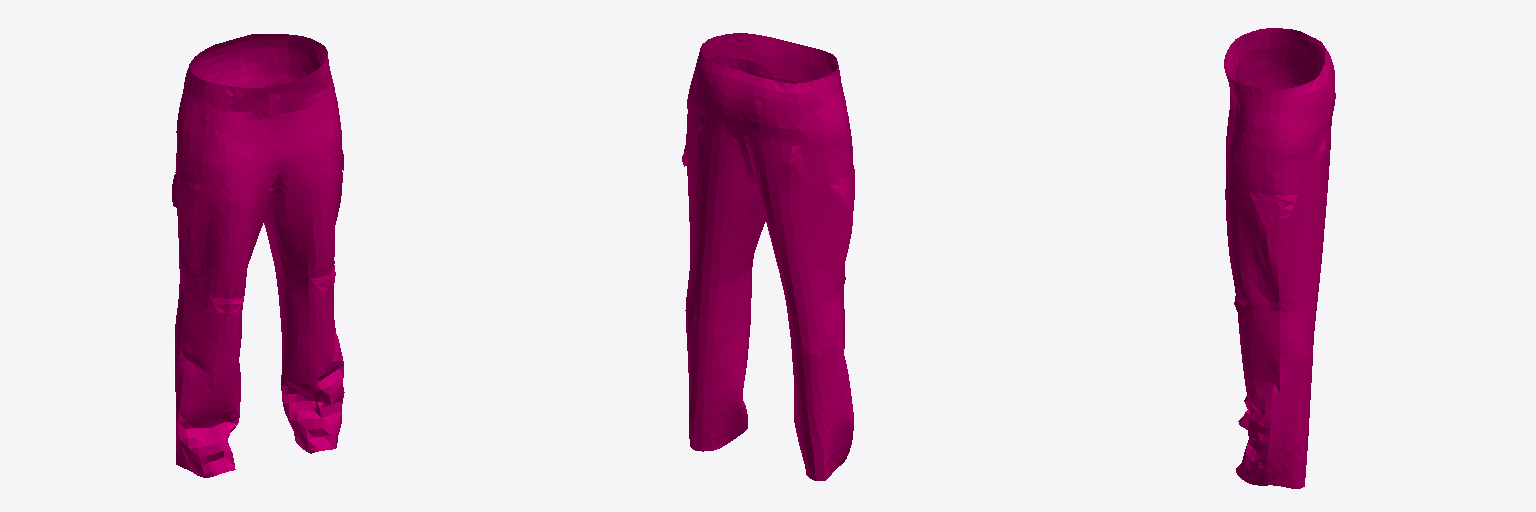
File: pants_pink.obj
The picture shows the model from 3 angles: view 1: azimuth 30°, elevation 25°; view 2: azimuth 150°, elevation 25°; view 3: azimuth 270°, elevation 25°; orthographic projection.
Parts seen in each view (by area): view 1: CAMO_PANTS_Untitled; view 2: CAMO_PANTS_Untitled; view 3: CAMO_PANTS_Untitled.
Boxes of the visible parts, box(x1,y1,x2,y2) form: CAMO_PANTS_Untitled: box(172, 34, 344, 477); CAMO_PANTS_Untitled: box(682, 33, 854, 480); CAMO_PANTS_Untitled: box(1224, 28, 1335, 488).
Size of the model in its own units: 0.7836 by 1.83 by 0.4602.